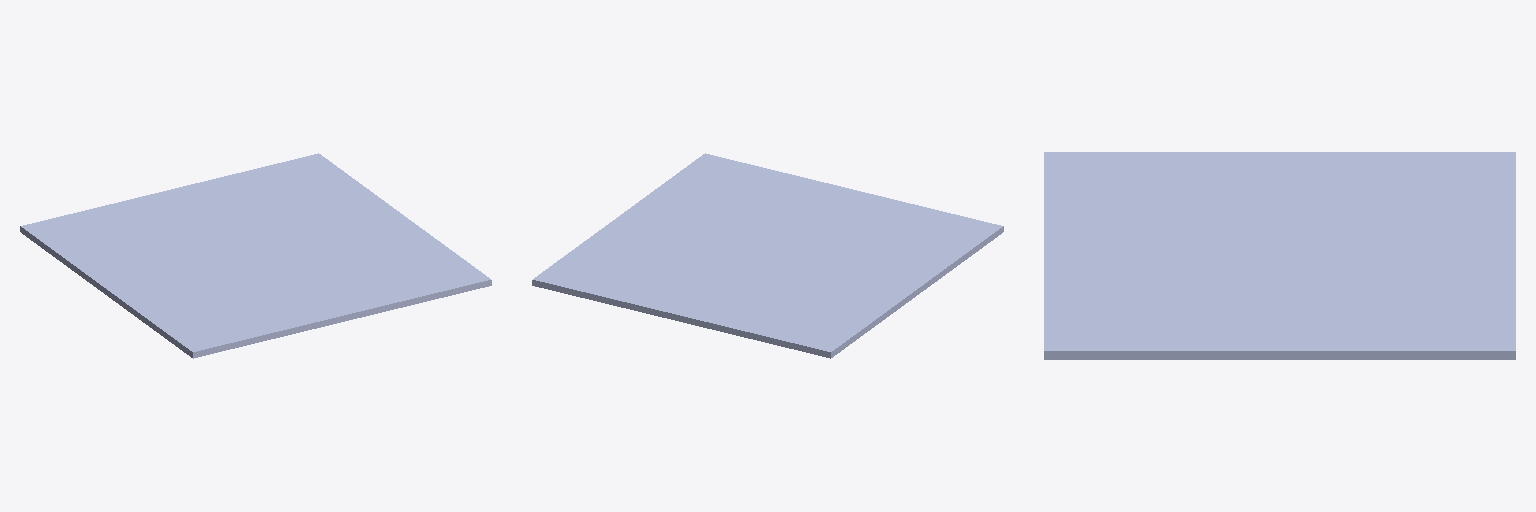
URDF robot description (vss_simulation):
<?xml version="1.0" encoding="utf-8"?>
<!-- This URDF was automatically created by SolidWorks to URDF Exporter! Originally created by [author] ([email redacted]) 
     Commit Version: 1.5.1-0-g916b5db  Build Version: 1.5.7152.31018
     For more information, please see http://wiki.ros.org/sw_urdf_exporter -->
<robot
  name="vss_simulation">
  <link
    name="corpo">
    <inertial>
      <origin
        xyz="0.00836350345754076 1.00970659242458E-05 0.0193764900612843"
        rpy="0 0 0" />
      <mass
        value="0.114255136924402" />
      <inertia
        ixx="5.05104803499885E-05"
        ixy="-5.9966389340311E-09"
        ixz="-4.91396335027749E-06"
        iyy="5.6432509407802E-05"
        iyz="4.34697103483597E-13"
        izz="8.10707764885917E-05" />
    </inertial>
    <visual>
      <origin
        xyz="0 0 0"
        rpy="0 0 0" />
      <geometry>
        <mesh
          filename="package://vss_simulation/meshes/corpo.STL" />
      </geometry>
      <material
        name="">
        <color
          rgba="1 1 1 1" />
      </material>
    </visual>
    <collision>
      <origin
        xyz="0 0 0"
        rpy="0 0 0" />
      <geometry>
        <mesh
          filename="package://vss_simulation/meshes/corpo.STL" />
      </geometry>
    </collision>
  </link>
  <link
    name="roda_dir_link">
    <inertial>
      <origin
        xyz="-4.52E-08 -3.5231E-06 -0.0037178"
        rpy="0 0 0" />
      <mass
        value="0.017155" />
      <inertia
        ixx="4.35E-06"
        ixy="1.602E-15"
        ixz="-8.2955E-17"
        iyy="4.3503E-06"
        iyz="6.2765E-17"
        izz="8.5226E-06" />
    </inertial>
    <visual>
      <origin
        xyz="0 0 0"
        rpy="0 0 0" />
      <geometry>
        <mesh
          filename="package://vss_simulation/meshes/roda_dir_link.STL" />
      </geometry>
      <material
        name="">
        <color
          rgba="0.69804 0.69804 0.69804 1" />
      </material>
    </visual>
    <collision>
      <origin
        xyz="0 0 0"
        rpy="0 0 0" />
      <geometry>
        <mesh
          filename="package://vss_simulation/meshes/roda_dir_link.STL" />
      </geometry>
    </collision>
  </link>
  <joint
    name="roda_dir_joint"
    type="continuous">
    <!-- Manually added -->
    <!-- damp = stall_torque/max_vel -->
    <dynamics damping="2.3e-3" friction="0.01" />
    <limit effort="108e-3" velocity="100" />
    <!-- Manually added -->
    <origin
      xyz="0 -0.0362 0.0267989207102477"
      rpy="1.5707963267949 -0.257204591428631 0" />
    <parent
      link="corpo" />
    <child
      link="roda_dir_link" />
    <axis
      xyz="0 0 -1" />
  </joint>
  <link
    name="roda_esq_link">
    <inertial>
      <origin
        xyz="-1.35457345451506E-07 -3.52311700731883E-06 -0.00371783524643296"
        rpy="0 0 0" />
      <mass
        value="0.0171546672764287" />
      <inertia
        ixx="4.35000652569962E-06"
        ixy="-1.60203523539383E-15"
        ixz="-8.29546398889933E-17"
        iyy="4.35027517811247E-06"
        iyz="-6.27621403080168E-17"
        izz="8.52255775209774E-06" />
    </inertial>
    <visual>
      <origin
        xyz="0 0 0"
        rpy="0 0 0" />
      <geometry>
        <mesh
          filename="package://vss_simulation/meshes/roda_esq_link.STL" />
      </geometry>
      <material
        name="">
        <color
          rgba="0.698039215686274 0.698039215686274 0.698039215686274 1" />
      </material>
    </visual>
    <collision>
      <origin
        xyz="0 0 0"
        rpy="0 0 0" />
      <geometry>
        <mesh
          filename="package://vss_simulation/meshes/roda_esq_link.STL" />
      </geometry>
    </collision>
  </link>
  <joint
    name="roda_esq_joint"
    type="continuous">
    <!-- Manually added -->
    <!-- damp = stall_torque/max_vel -->
    <dynamics damping="2.3e-3" friction="0.01" />
    <limit effort="108e-3" velocity="100" />
    <!-- Manually added -->
    <origin
      xyz="0 0.0362 0.02679871482879"
      rpy="1.5707963267949 -0.0133976378081295 3.14159265358979" />
    <parent
      link="corpo" />
    <child
      link="roda_esq_link" />
    <axis
      xyz="0 0 1" />
  </joint>
  <link
    name="chapeu_link">
    <inertial>
      <origin
        xyz="-6.79850457059594E-06 -2.42861286636753E-17 -0.00274999999999997"
        rpy="0 0 0" />
      <mass
        value="0.0141218190526683" />
      <inertia
        ixx="6.55901198190287E-06"
        ixy="1.84011897115871E-21"
        ixz="1.11996728466913E-23"
        iyy="6.49220829461271E-06"
        iyz="5.66918800962593E-22"
        izz="1.30365100483357E-05" />
    </inertial>
    <visual>
      <origin
        xyz="0 0 0"
        rpy="0 0 0" />
      <geometry>
        <mesh
          filename="package://vss_simulation/meshes/chapeu_link.STL" />
      </geometry>
      <material
        name="">
        <color
          rgba="0.109803921568627 0.109803921568627 0.109803921568627 1" />
      </material>
    </visual>
    <collision>
      <origin
        xyz="0 0 0"
        rpy="0 0 0" />
      <geometry>
        <mesh
          filename="package://vss_simulation/meshes/chapeu_link.STL" />
      </geometry>
    </collision>
  </link>
  <joint
    name="chapeu_joint"
    type="fixed">
    <origin
      xyz="0.00525000000000002 0 0.0653"
      rpy="0 0 0" />
    <parent
      link="corpo" />
    <child
      link="chapeu_link" />
    <axis
      xyz="0 0 0" />
  </joint>
  <link
    name="tile_sup_esq_link">
    <inertial>
      <origin
        xyz="0.01875 0.01875 -0.000750000000000015"
        rpy="0 0 0" />
      <mass
        value="0.002109375" />
      <inertia
        ixx="2.47587890625E-07"
        ixy="1.00823390502864E-23"
        ixz="0"
        iyy="2.47587890625E-07"
        iyz="1.03397576569128E-24"
        izz="4.94384765625E-07" />
    </inertial>
    <visual>
      <origin
        xyz="0 0 0"
        rpy="0 0 0" />
      <geometry>
        <mesh
          filename="package://vss_simulation/meshes/tile_sup_esq_link.STL" />
      </geometry>
      <material
        name="">
        <color
          rgba="0.792156862745098 0.819607843137255 0.933333333333333 1" />
      </material>
    </visual>
    <collision>
      <origin
        xyz="0 0 0"
        rpy="0 0 0" />
      <geometry>
        <mesh
          filename="package://vss_simulation/meshes/tile_sup_esq_link.STL" />
      </geometry>
    </collision>
  </link>
  <joint
    name="tile_sup_esq_joint"
    type="fixed">
    <origin
      xyz="0 0 0"
      rpy="0 0 0" />
    <parent
      link="chapeu_link" />
    <child
      link="tile_sup_esq_link" />
    <axis
      xyz="0 0 0" />
  </joint>
  <link
    name="tile_sup_dir_link">
    <inertial>
      <origin
        xyz="0.01875 -0.01875 -0.000750000000000001"
        rpy="0 0 0" />
      <mass
        value="0.002109375" />
      <inertia
        ixx="2.47587890625E-07"
        ixy="3.42363164806114E-39"
        ixz="0"
        iyy="2.47587890625E-07"
        iyz="2.69049305150365E-40"
        izz="4.94384765625E-07" />
    </inertial>
    <visual>
      <origin
        xyz="0 0 0"
        rpy="0 0 0" />
      <geometry>
        <mesh
          filename="package://vss_simulation/meshes/tile_sup_dir_link.STL" />
      </geometry>
      <material
        name="">
        <color
          rgba="0.792156862745098 0.819607843137255 0.933333333333333 1" />
      </material>
    </visual>
    <collision>
      <origin
        xyz="0 0 0"
        rpy="0 0 0" />
      <geometry>
        <mesh
          filename="package://vss_simulation/meshes/tile_sup_dir_link.STL" />
      </geometry>
    </collision>
  </link>
  <joint
    name="tile_sup_dir_joint"
    type="fixed">
    <origin
      xyz="0 0 0"
      rpy="0 0 0" />
    <parent
      link="chapeu_link" />
    <child
      link="tile_sup_dir_link" />
    <axis
      xyz="0 0 0" />
  </joint>
  <link
    name="tile_inf_esq_link">
    <inertial>
      <origin
        xyz="-0.01875 0.01875 -0.000750000000000001"
        rpy="0 0 0" />
      <mass
        value="0.002109375" />
      <inertia
        ixx="2.47587890625E-07"
        ixy="8.27180612553025E-24"
        ixz="-2.69049305150365E-40"
        iyy="2.47587890625E-07"
        iyz="-1.79366203433577E-40"
        izz="4.94384765625E-07" />
    </inertial>
    <visual>
      <origin
        xyz="0 0 0"
        rpy="0 0 0" />
      <geometry>
        <mesh
          filename="package://vss_simulation/meshes/tile_inf_esq_link.STL" />
      </geometry>
      <material
        name="">
        <color
          rgba="0.792156862745098 0.819607843137255 0.933333333333333 1" />
      </material>
    </visual>
    <collision>
      <origin
        xyz="0 0 0"
        rpy="0 0 0" />
      <geometry>
        <mesh
          filename="package://vss_simulation/meshes/tile_inf_esq_link.STL" />
      </geometry>
    </collision>
  </link>
  <joint
    name="tile_inf_esq_joint"
    type="fixed">
    <origin
      xyz="0 0 0"
      rpy="0 0 0" />
    <parent
      link="chapeu_link" />
    <child
      link="tile_inf_esq_link" />
    <axis
      xyz="0 0 0" />
  </joint>
  <link
    name="tile_inf_dir_link">
    <inertial>
      <origin
        xyz="-0.01875 -0.01875 -0.000750000000000001"
        rpy="0 0 0" />
      <mass
        value="0.002109375" />
      <inertia
        ixx="2.47587890625E-07"
        ixy="2.86985925493722E-39"
        ixz="0"
        iyy="2.47587890625E-07"
        iyz="2.69049305150365E-40"
        izz="4.94384765625E-07" />
    </inertial>
    <visual>
      <origin
        xyz="0 0 0"
        rpy="0 0 0" />
      <geometry>
        <mesh
          filename="package://vss_simulation/meshes/tile_inf_dir_link.STL" />
      </geometry>
      <material
        name="">
        <color
          rgba="0.792156862745098 0.819607843137255 0.933333333333333 1" />
      </material>
    </visual>
    <collision>
      <origin
        xyz="0 0 0"
        rpy="0 0 0" />
      <geometry>
        <mesh
          filename="package://vss_simulation/meshes/tile_inf_dir_link.STL" />
      </geometry>
    </collision>
  </link>
  <joint
    name="tile_inf_dir_joint"
    type="fixed">
    <origin
      xyz="0 0 0"
      rpy="0 0 0" />
    <parent
      link="chapeu_link" />
    <child
      link="tile_inf_dir_link" />
    <axis
      xyz="0 0 0" />
  </joint>
</robot>

--- Facts derived from the render (not from the file) ---
3 views of the same robot in one strip: view 1: azimuth 30°, elevation 25°; view 2: azimuth 150°, elevation 25°; view 3: azimuth 270°, elevation 25° (orthographic).
Model vss_simulation with 8 links and 7 joints (2 continuous, 5 fixed), rooted at corpo, posed every joint at zero.
Visible links, largest first — view 1: tile_inf_dir_link, tile_sup_dir_link, tile_inf_esq_link, tile_sup_esq_link; view 2: tile_inf_esq_link, tile_sup_esq_link, tile_inf_dir_link, tile_sup_dir_link; view 3: tile_sup_esq_link, tile_sup_dir_link, tile_inf_esq_link, tile_inf_dir_link.
Link boxes in pixels (x1=…): tile_inf_dir_link: x1=107, y1=253, x2=341, y2=358; tile_sup_dir_link: x1=257, y1=217, x2=491, y2=321; tile_inf_esq_link: x1=20, y1=190, x2=254, y2=294; tile_sup_esq_link: x1=171, y1=153, x2=404, y2=252; tile_inf_esq_link: x1=682, y1=253, x2=916, y2=358; tile_sup_esq_link: x1=532, y1=217, x2=766, y2=321; tile_inf_dir_link: x1=769, y1=190, x2=1003, y2=294; tile_sup_dir_link: x1=619, y1=153, x2=852, y2=252; tile_sup_esq_link: x1=1280, y1=252, x2=1515, y2=359; tile_sup_dir_link: x1=1044, y1=252, x2=1279, y2=359; tile_inf_esq_link: x1=1280, y1=152, x2=1515, y2=251; tile_inf_dir_link: x1=1044, y1=152, x2=1279, y2=251.
Bounding box of the posed robot: 0.075 × 0.075 × 0.0015 m (x, y, z).
Meshes: 8 distinct files referenced, 4 mesh visuals loaded (4 binary STL); not drawn: 4 (reference not matched to a file when rendering).
